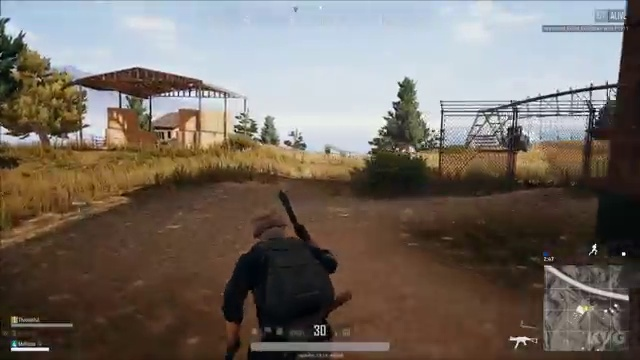Player: (197, 182, 378, 324)
